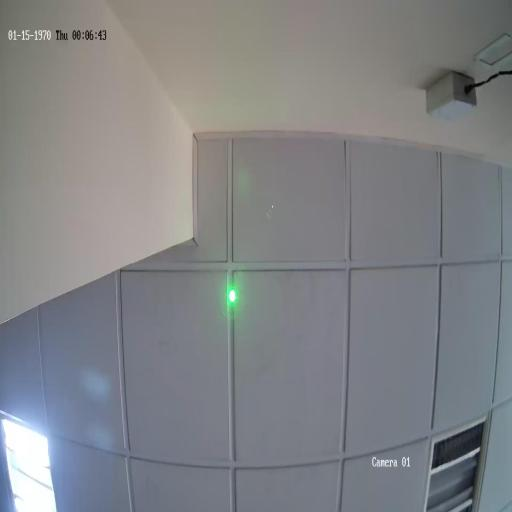laser: (222, 276, 242, 316)
